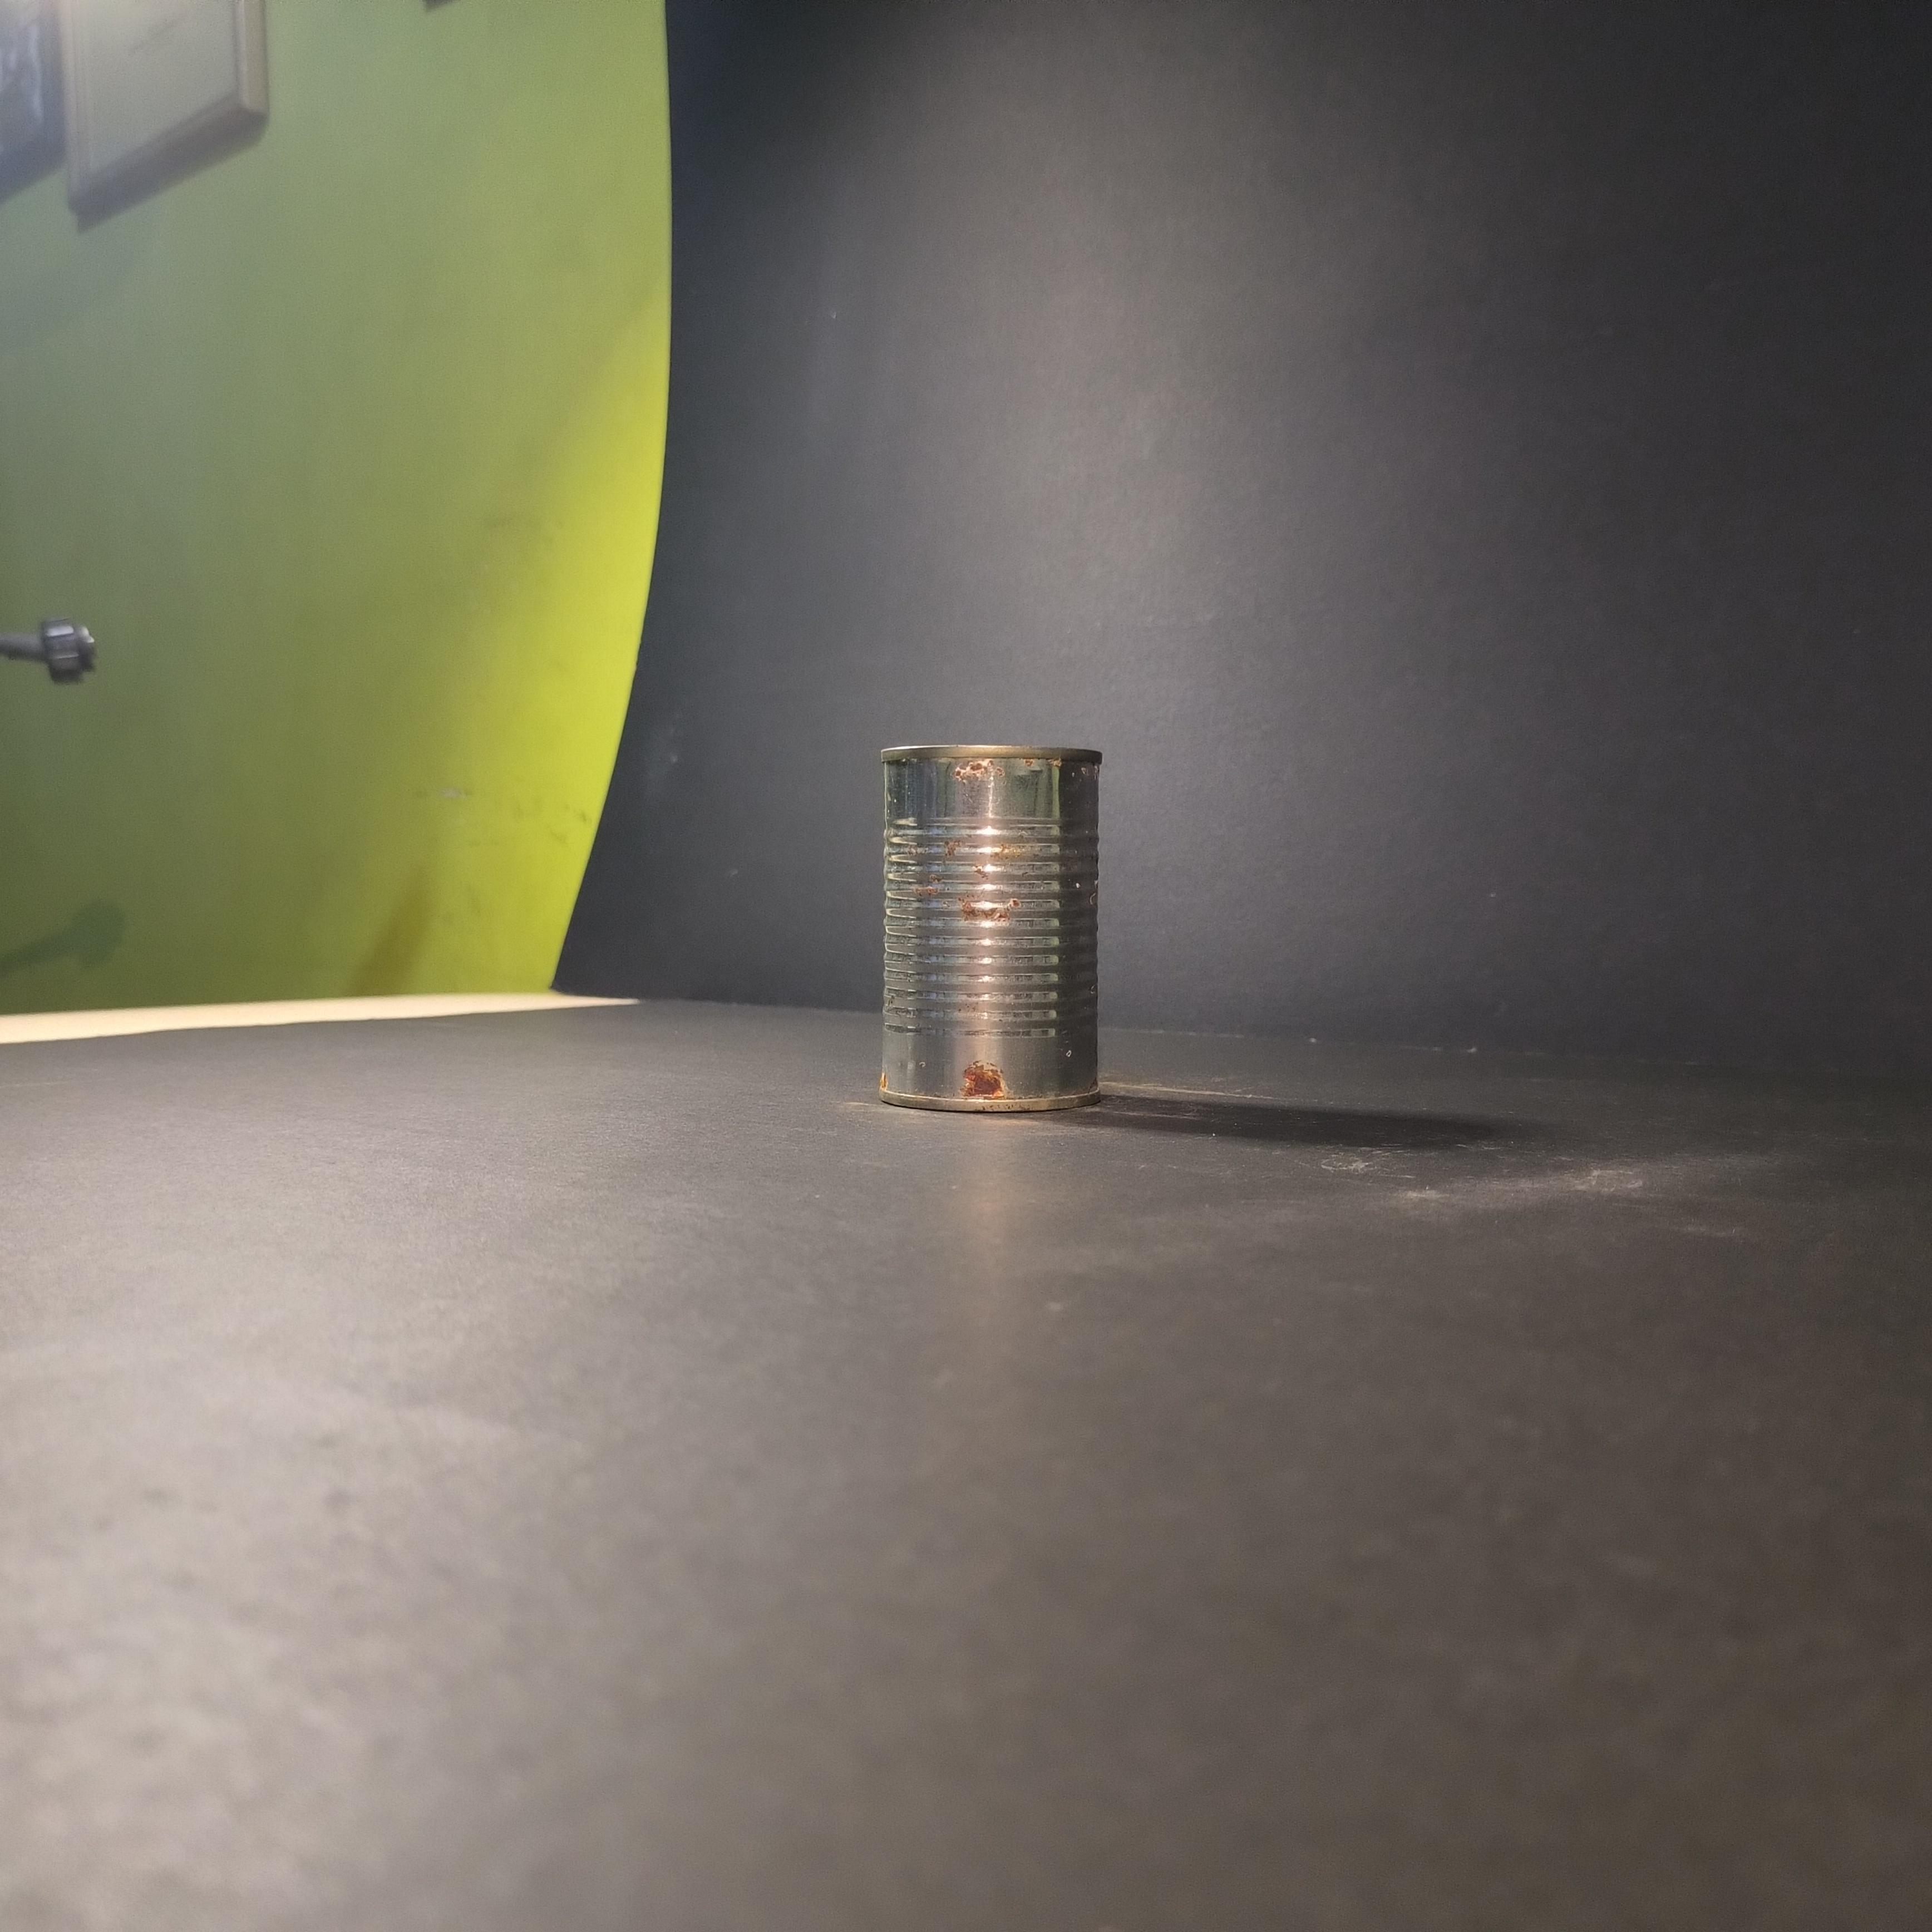Rusted: (869, 734, 1113, 1122)
